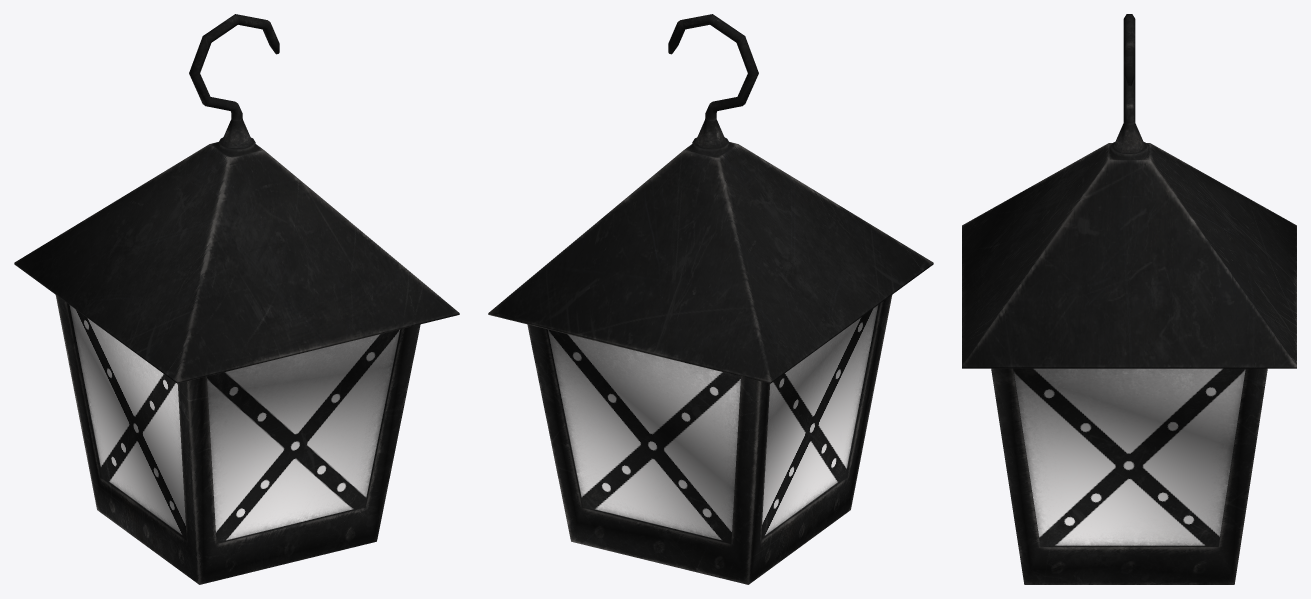
Rendered from medieval_lantern.glb.
3 renders of one model, left to right at view 1: azimuth 30°, elevation 25°; view 2: azimuth 150°, elevation 25°; view 3: azimuth 270°, elevation 25°, orthographic. The views are drawn at different scales.
Visible parts, largest first — view 1: lantern; view 2: lantern; view 3: lantern.
Boxes of the visible parts, left/top/right/bottom form: lantern: left=14, top=14, right=459, bottom=584; lantern: left=488, top=14, right=933, bottom=584; lantern: left=962, top=14, right=1296, bottom=584.
Size of the model in its own units: 19.99 by 34.58 by 19.99.
1 material, 1 textured.
